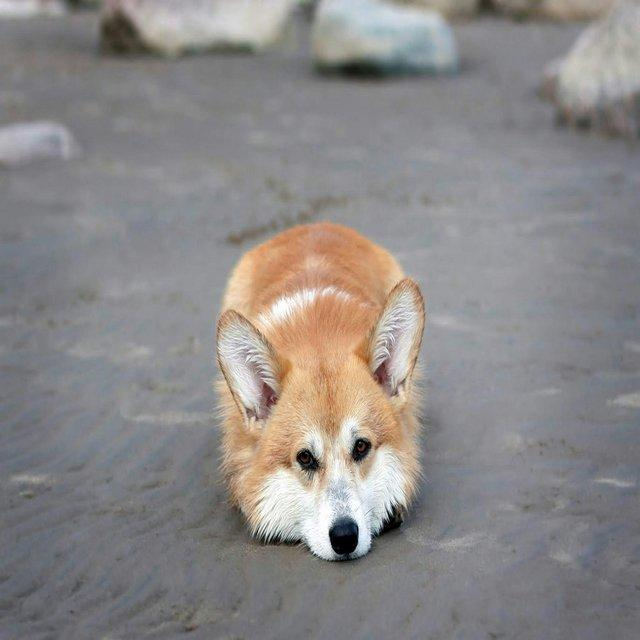corgi: (212, 219, 427, 562)
